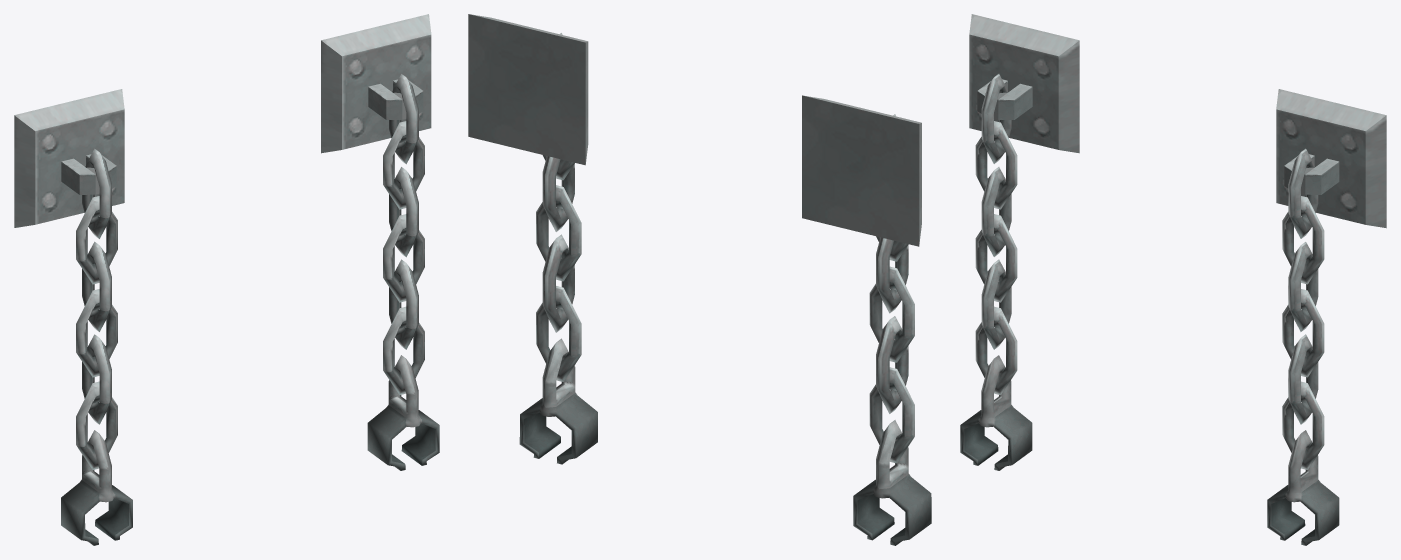
File: Chain01.fbx
The picture shows the model from 3 angles, left to right: view 1: azimuth 30°, elevation 25°; view 2: azimuth 150°, elevation 25°; view 3: azimuth 330°, elevation 25°; orthographic projection. The views are drawn at different scales.
Parts seen in each view (by area): view 1: Cube; view 2: Cube; view 3: Cube.
Part boxes in pixels (x1=…): Cube: x1=14, y1=14, x2=439, y2=545; Cube: x1=468, y1=14, x2=931, y2=545; Cube: x1=960, y1=14, x2=1386, y2=545.
Bounding box in the file's own units: 0.8409 × 0.7981 × 0.1458.
1 material, 1 textured.
